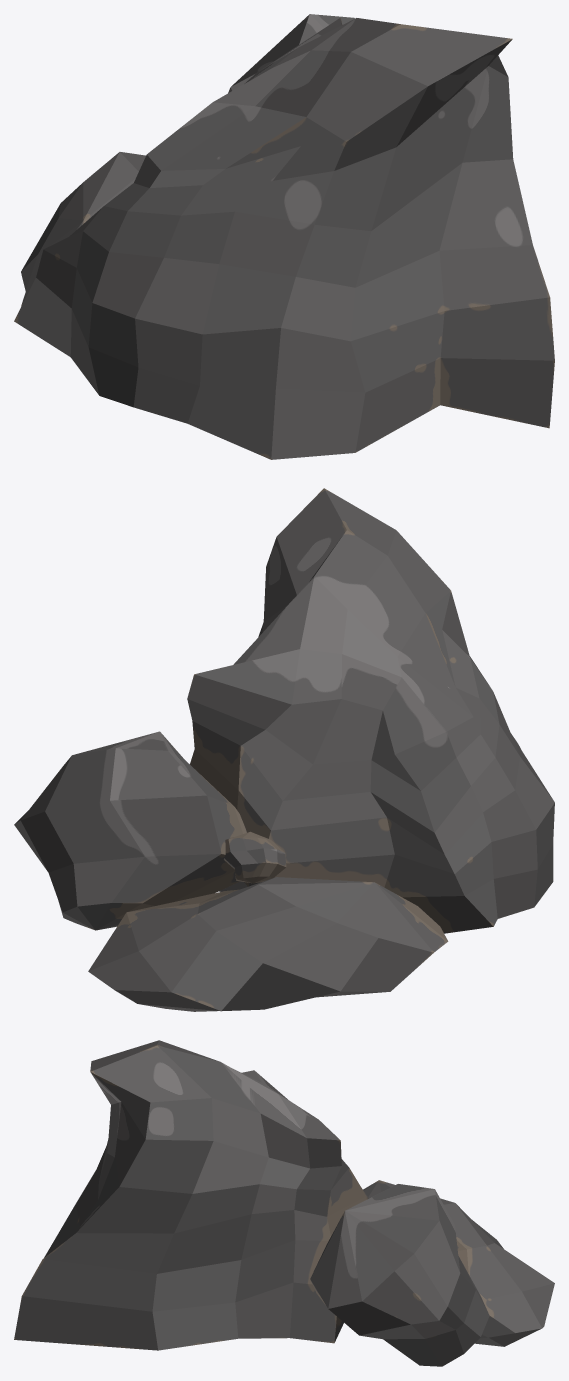
File: PT_stones_001.FBX
3 renders of one model, top to bottom at view 1: azimuth 30°, elevation 25°; view 2: azimuth 150°, elevation 25°; view 3: azimuth 270°, elevation 25°, orthographic. The views are drawn at different scales.
Visible parts, largest first — view 1: Box140; view 2: Box140; view 3: Box140.
Boxes of the visible parts, x1,y1,x2,y2 form: Box140: (14, 14, 554, 459); Box140: (14, 488, 554, 1011); Box140: (14, 1040, 554, 1366).
Bounding box in the file's own units: 17.39 × 13.66 × 21.83.
Materials: 1 (1 with a texture image).
